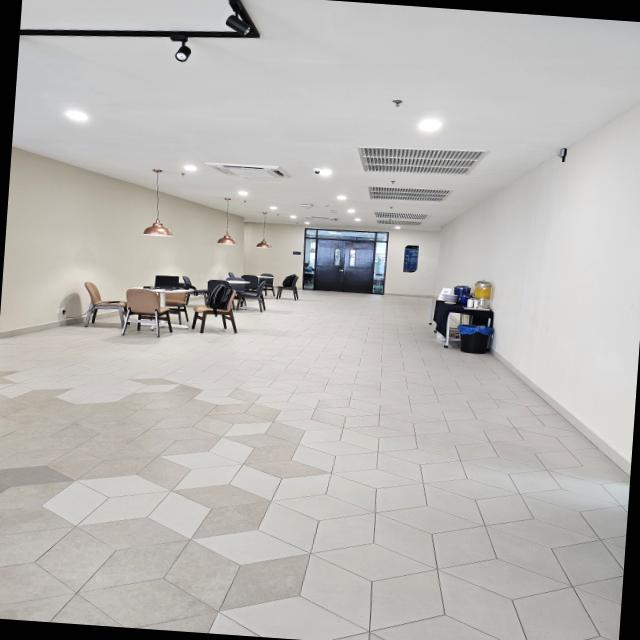footpath: (0, 337, 503, 640), (312, 292, 402, 359)
obstacle: (76, 273, 236, 338), (428, 272, 502, 356)
